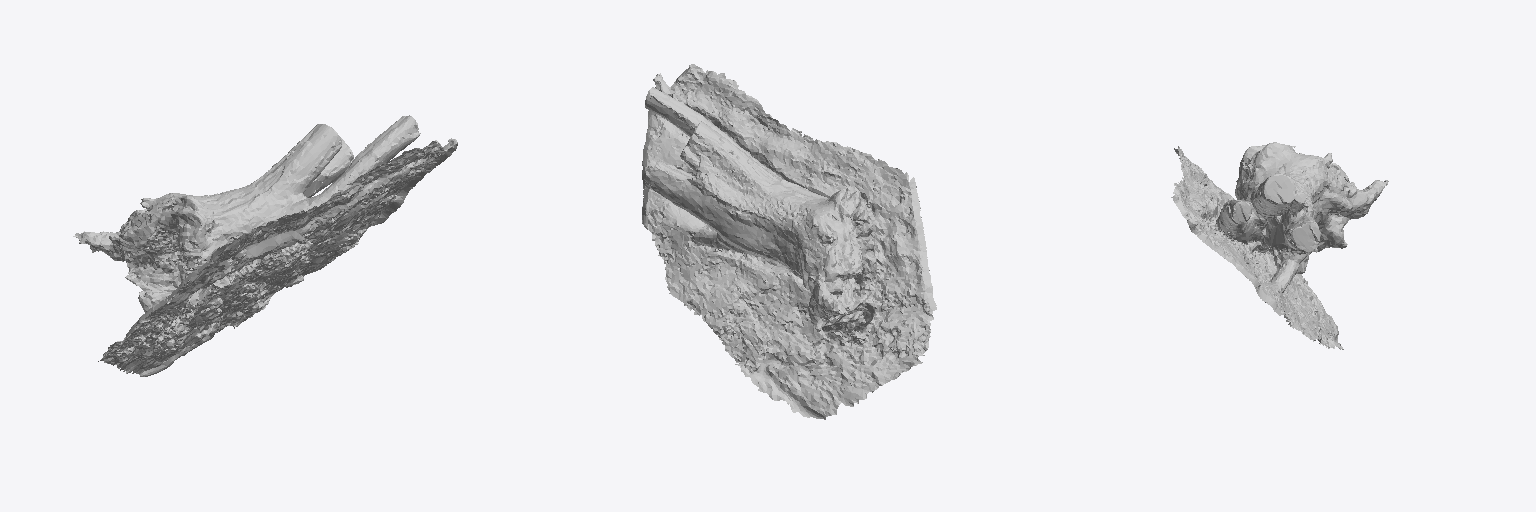
Rendered from tree_stump.obj.
3 renders of one model, left to right at view 1: azimuth 30°, elevation 25°; view 2: azimuth 150°, elevation 25°; view 3: azimuth 270°, elevation 25°, orthographic.
Visible parts, largest first — view 1: Drevo.001; view 2: Drevo.001; view 3: Drevo.001.
Boxes of the visible parts, x1=… form: Drevo.001: x1=73, y1=115, x2=457, y2=376; Drevo.001: x1=642, y1=64, x2=936, y2=419; Drevo.001: x1=1171, y1=142, x2=1388, y2=349.
Size of the model in its own units: 13.77 by 10.35 by 8.29.